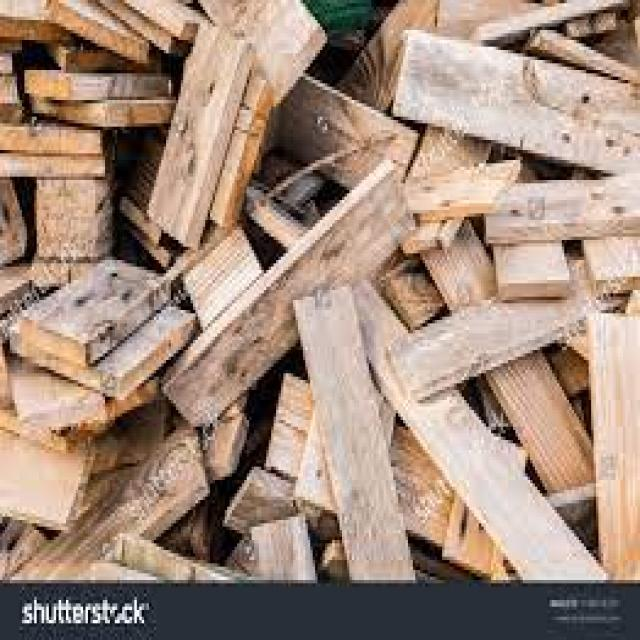green waste: (2, 0, 637, 575)
